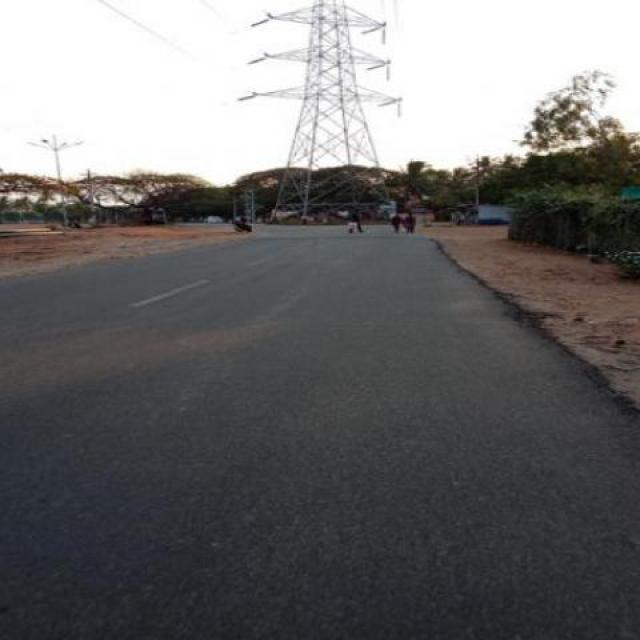Unmarked Bump: (245, 234, 442, 242)
